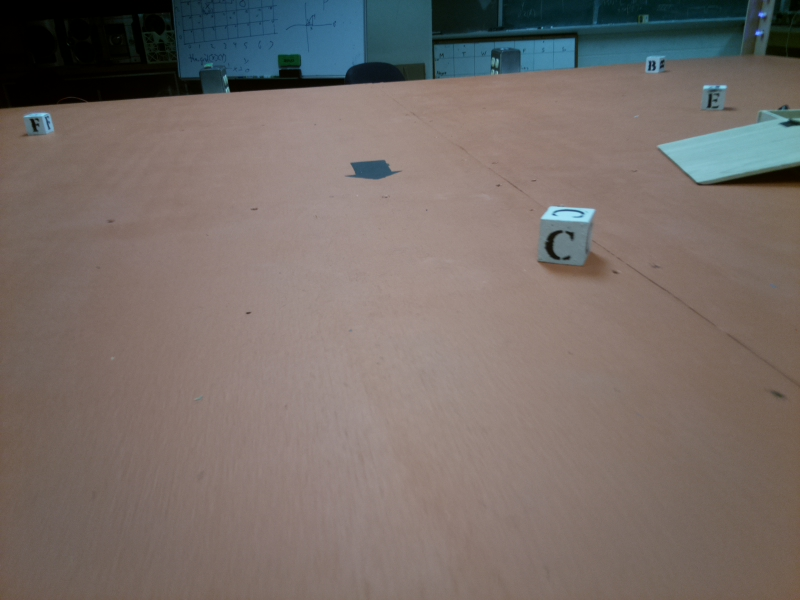blockB: (643, 56, 668, 78)
blockC: (539, 201, 598, 272)
blockE: (700, 84, 731, 112)
blockF: (23, 114, 56, 138)
corner: (738, 1, 778, 59)
slope: (656, 118, 800, 196)
start: (342, 153, 407, 182)
